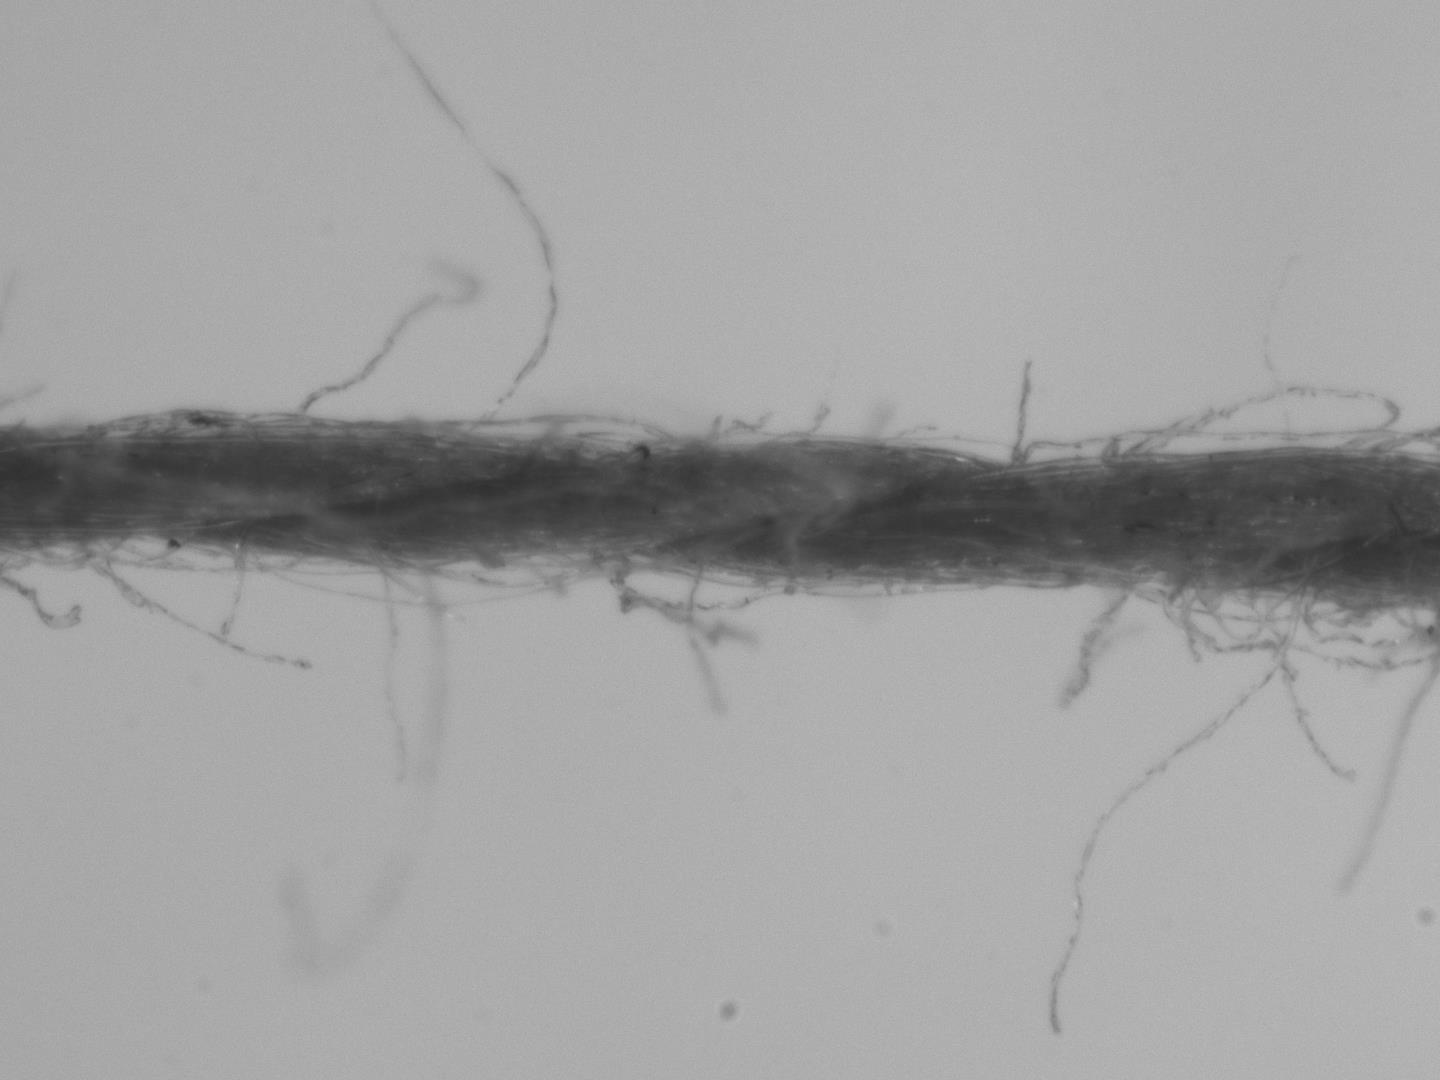loop_fiber: (1117, 379, 1411, 462)
protruding_fiber: (1037, 589, 1311, 1036), (356, 5, 561, 434), (63, 550, 317, 676), (287, 262, 481, 420), (373, 557, 413, 791), (1000, 346, 1037, 471)
